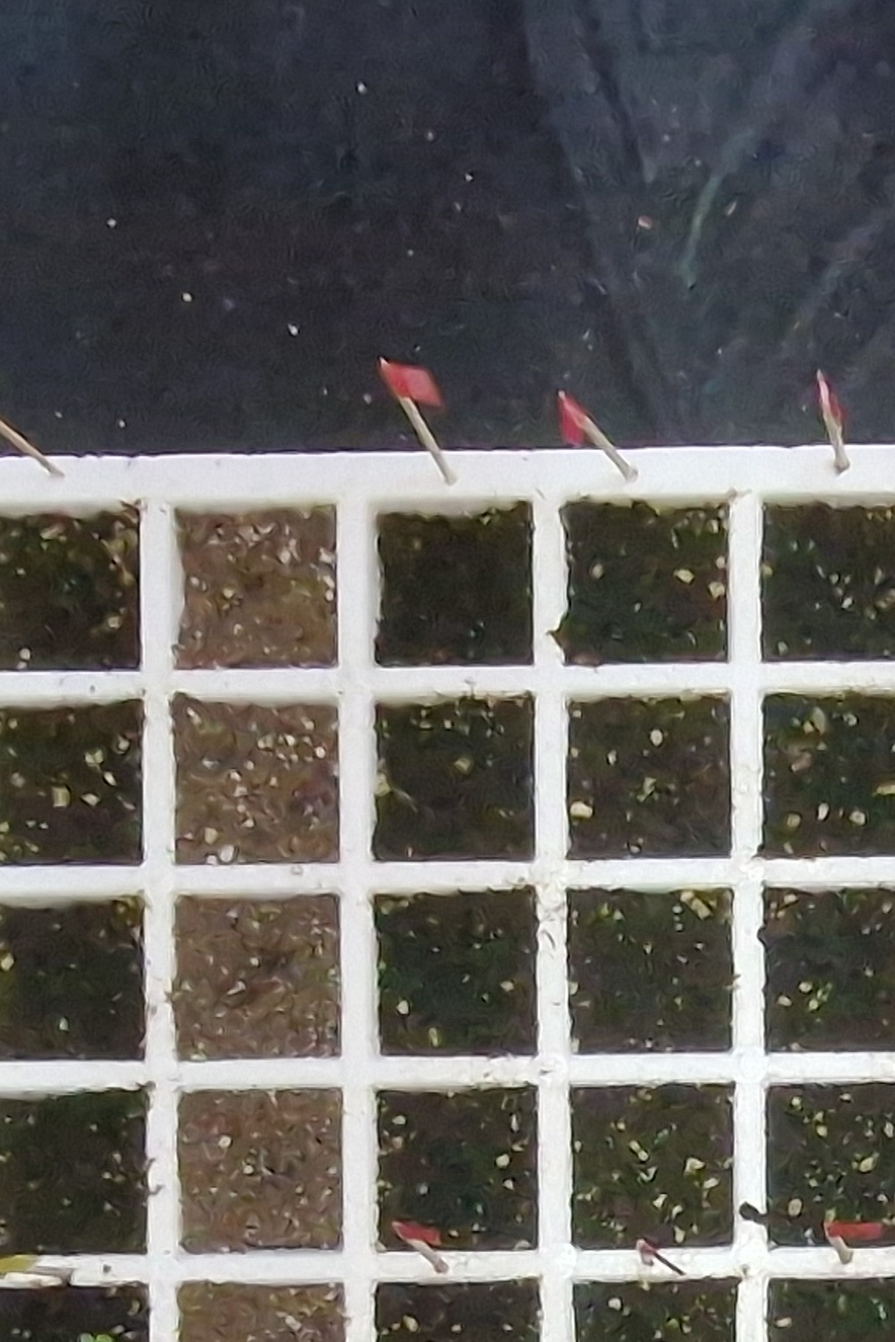Folha: (76, 1333, 94, 1342), (95, 1335, 112, 1342)
Germinacao: (79, 1333, 112, 1342)
